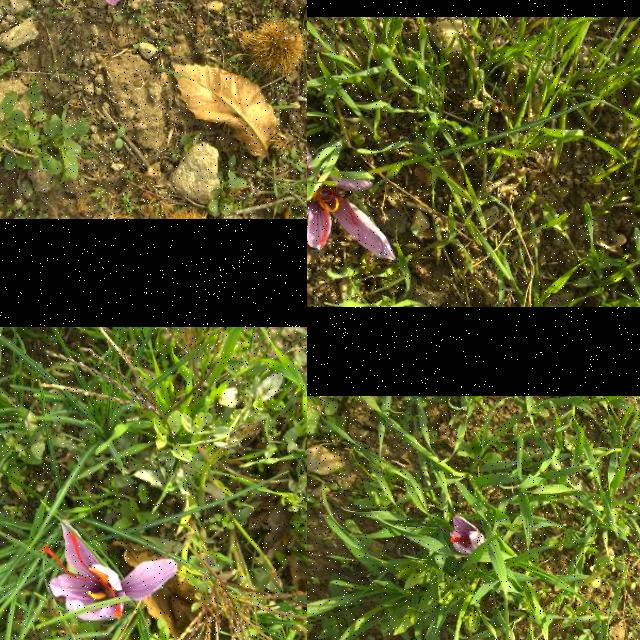flower: (41, 521, 177, 621), (307, 115, 396, 259), (450, 515, 486, 555)
